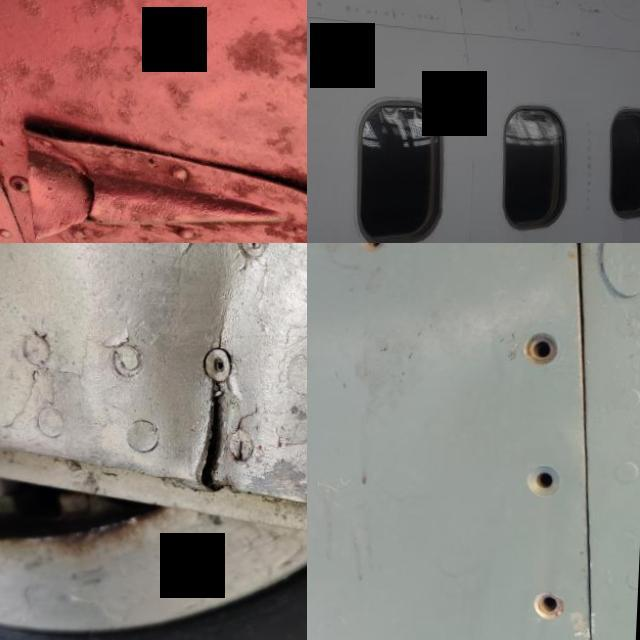Crack: (167, 364, 266, 501), (64, 152, 110, 228)
Missing_Fastener: (505, 308, 583, 380), (518, 567, 590, 636), (515, 444, 579, 508), (345, 243, 402, 264)
